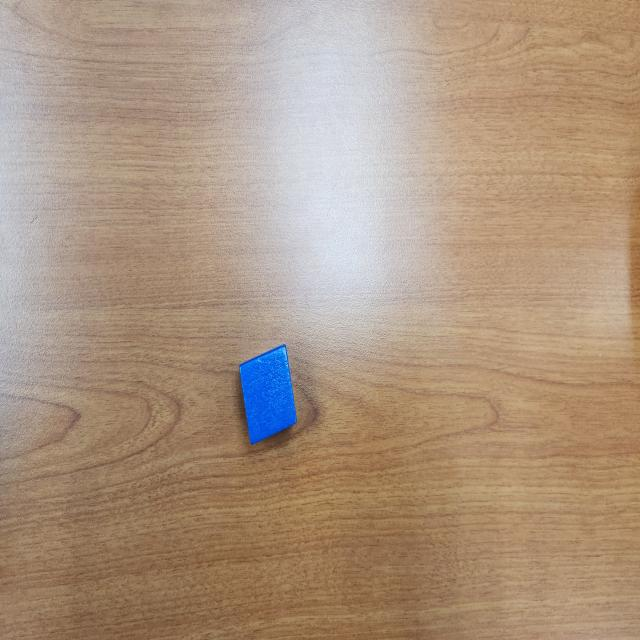blue: (239, 345, 296, 445)
